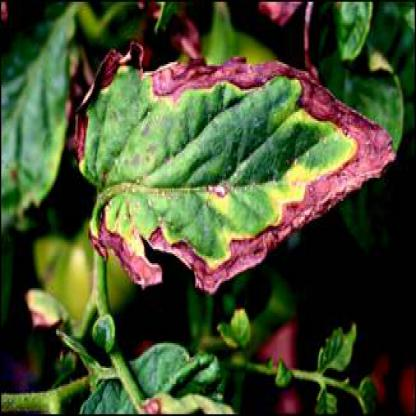tomato leaf bacterial spot: (77, 39, 398, 299)
